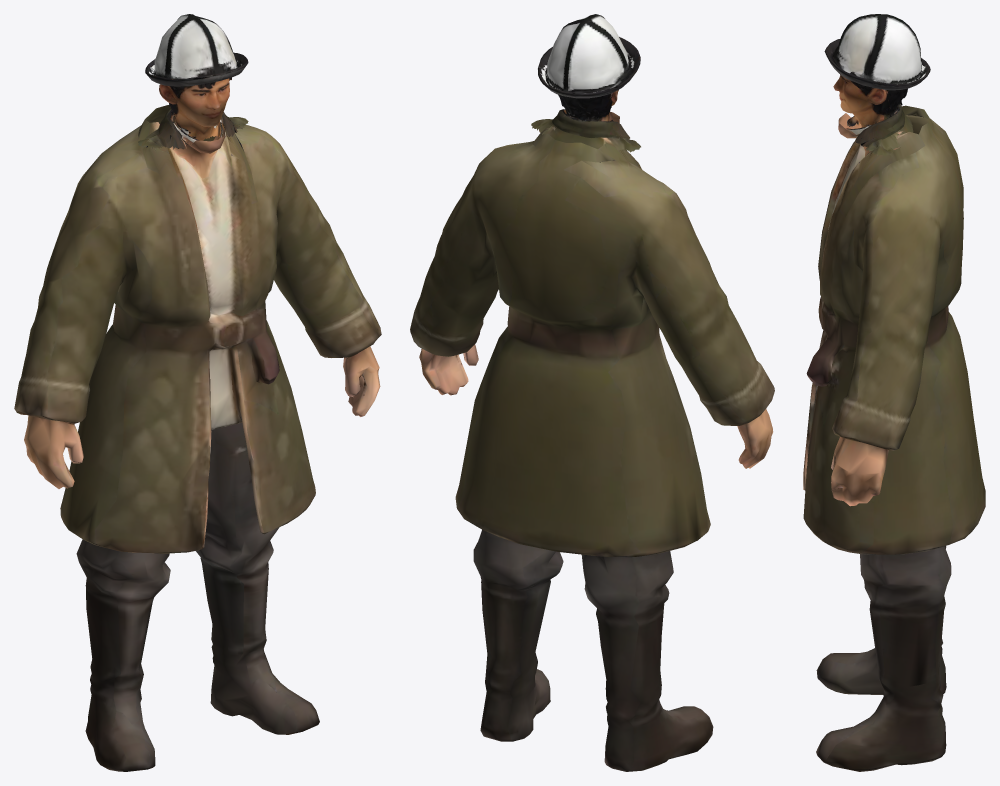
File: herder-erlan.gen.glb
The picture shows the model from 3 angles, left to right: view 1: azimuth 30°, elevation 25°; view 2: azimuth 150°, elevation 25°; view 3: azimuth 270°, elevation 25°; orthographic projection.
Visible parts, largest first — view 1: herder-erlan.raw; view 2: herder-erlan.raw; view 3: herder-erlan.raw.
Part boxes in pixels (x1,y1,x2,y2): herder-erlan.raw: (14,14,381,771); herder-erlan.raw: (410,14,774,771); herder-erlan.raw: (803,14,985,771).
Size of the model in its own units: 0.9567 by 1.85 by 0.4318.
1 material, 1 textured.
